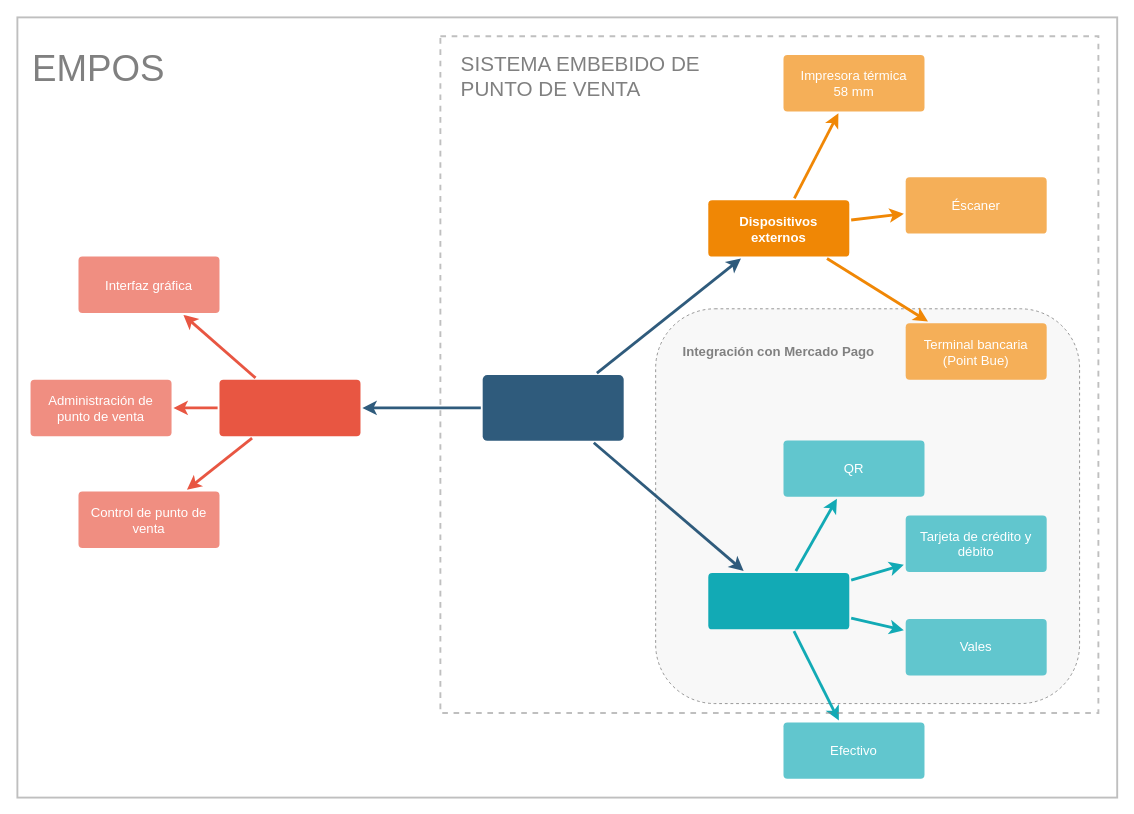
Image size: 1134x814. Some labels were removed from this diagram. The centre of each missing label's shape, as x and y in pixels:
Aplicación POS: the point at 289,407
Pagos: the point at 778,600
Raspberry: the point at 552,407
